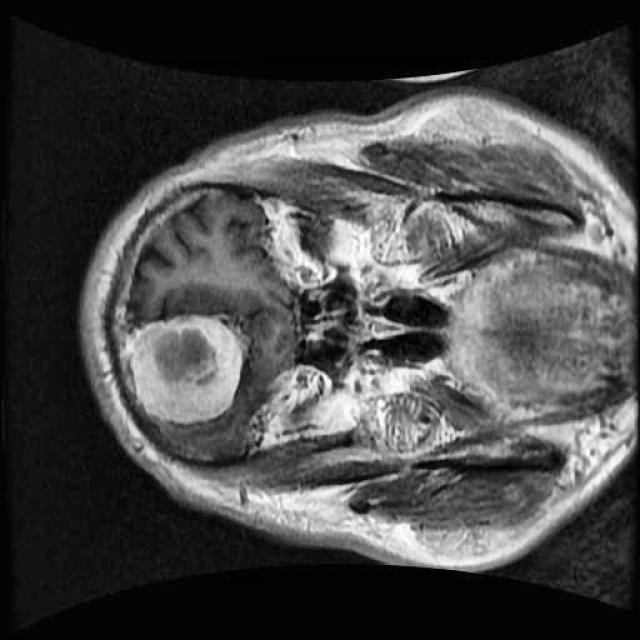Tumor: (122, 305, 249, 430)
